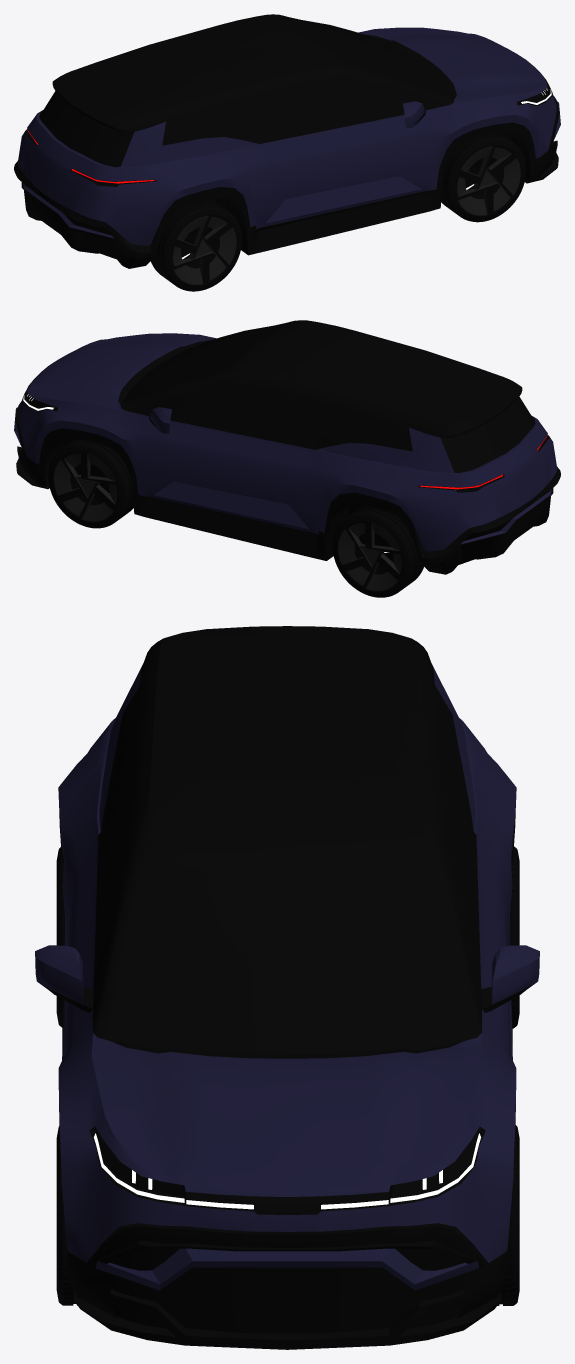
The model's file is fisker_ocean_low-poly.glb.
3 views of the same model, one above another, from view 1: azimuth 30°, elevation 25°; view 2: azimuth 150°, elevation 25°; view 3: azimuth 270°, elevation 25° (orthographic). The views are drawn at different scales.
Visible parts, largest first — view 1: Plane_0, Circle.004_7, Circle.003_5, Shape_IndexedFaceSet.003_8, Shape_IndexedFaceSet.002_6; view 2: Plane_0, Circle.002_1, Circle.001_3, Shape_IndexedFaceSet.001_4, Shape_IndexedFaceSet_2; view 3: Plane_0, Shape_IndexedFaceSet_2, Shape_IndexedFaceSet.002_6, Shape_IndexedFaceSet.001_4, Shape_IndexedFaceSet.003_8.
Part boxes in pixels (x1,y1,x2,y2): Plane_0: (14, 14, 560, 268); Circle.004_7: (171, 215, 236, 284); Circle.003_5: (456, 146, 520, 215); Shape_IndexedFaceSet.003_8: (150, 199, 242, 291); Shape_IndexedFaceSet.002_6: (441, 132, 526, 222); Plane_0: (14, 320, 560, 574); Circle.002_1: (54, 452, 118, 521); Circle.001_3: (338, 521, 402, 590); Shape_IndexedFaceSet.001_4: (332, 505, 423, 597); Shape_IndexedFaceSet_2: (48, 438, 133, 528); Plane_0: (35, 626, 539, 1349); Shape_IndexedFaceSet_2: (497, 1125, 519, 1305); Shape_IndexedFaceSet.002_6: (56, 1126, 77, 1305); Shape_IndexedFaceSet.001_4: (510, 846, 519, 1028); Shape_IndexedFaceSet.003_8: (56, 847, 64, 1027).
Bounding box in the file's own units: 5.39 × 1.81 × 2.38.
